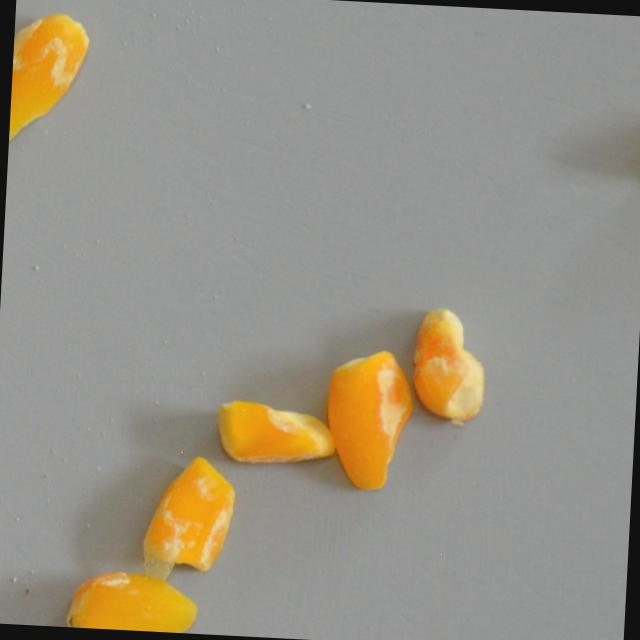dañado: (215, 399, 338, 469)
pelicula: (323, 346, 416, 491), (139, 453, 239, 579), (9, 9, 93, 146), (407, 303, 491, 425), (64, 563, 200, 634)
